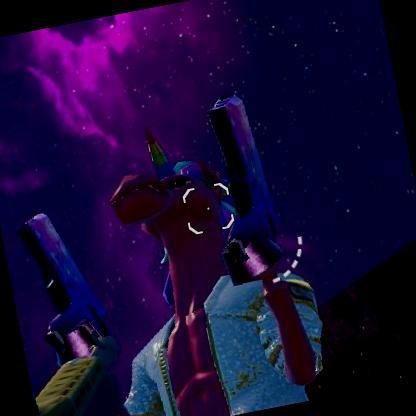person: (120, 153, 296, 416)
